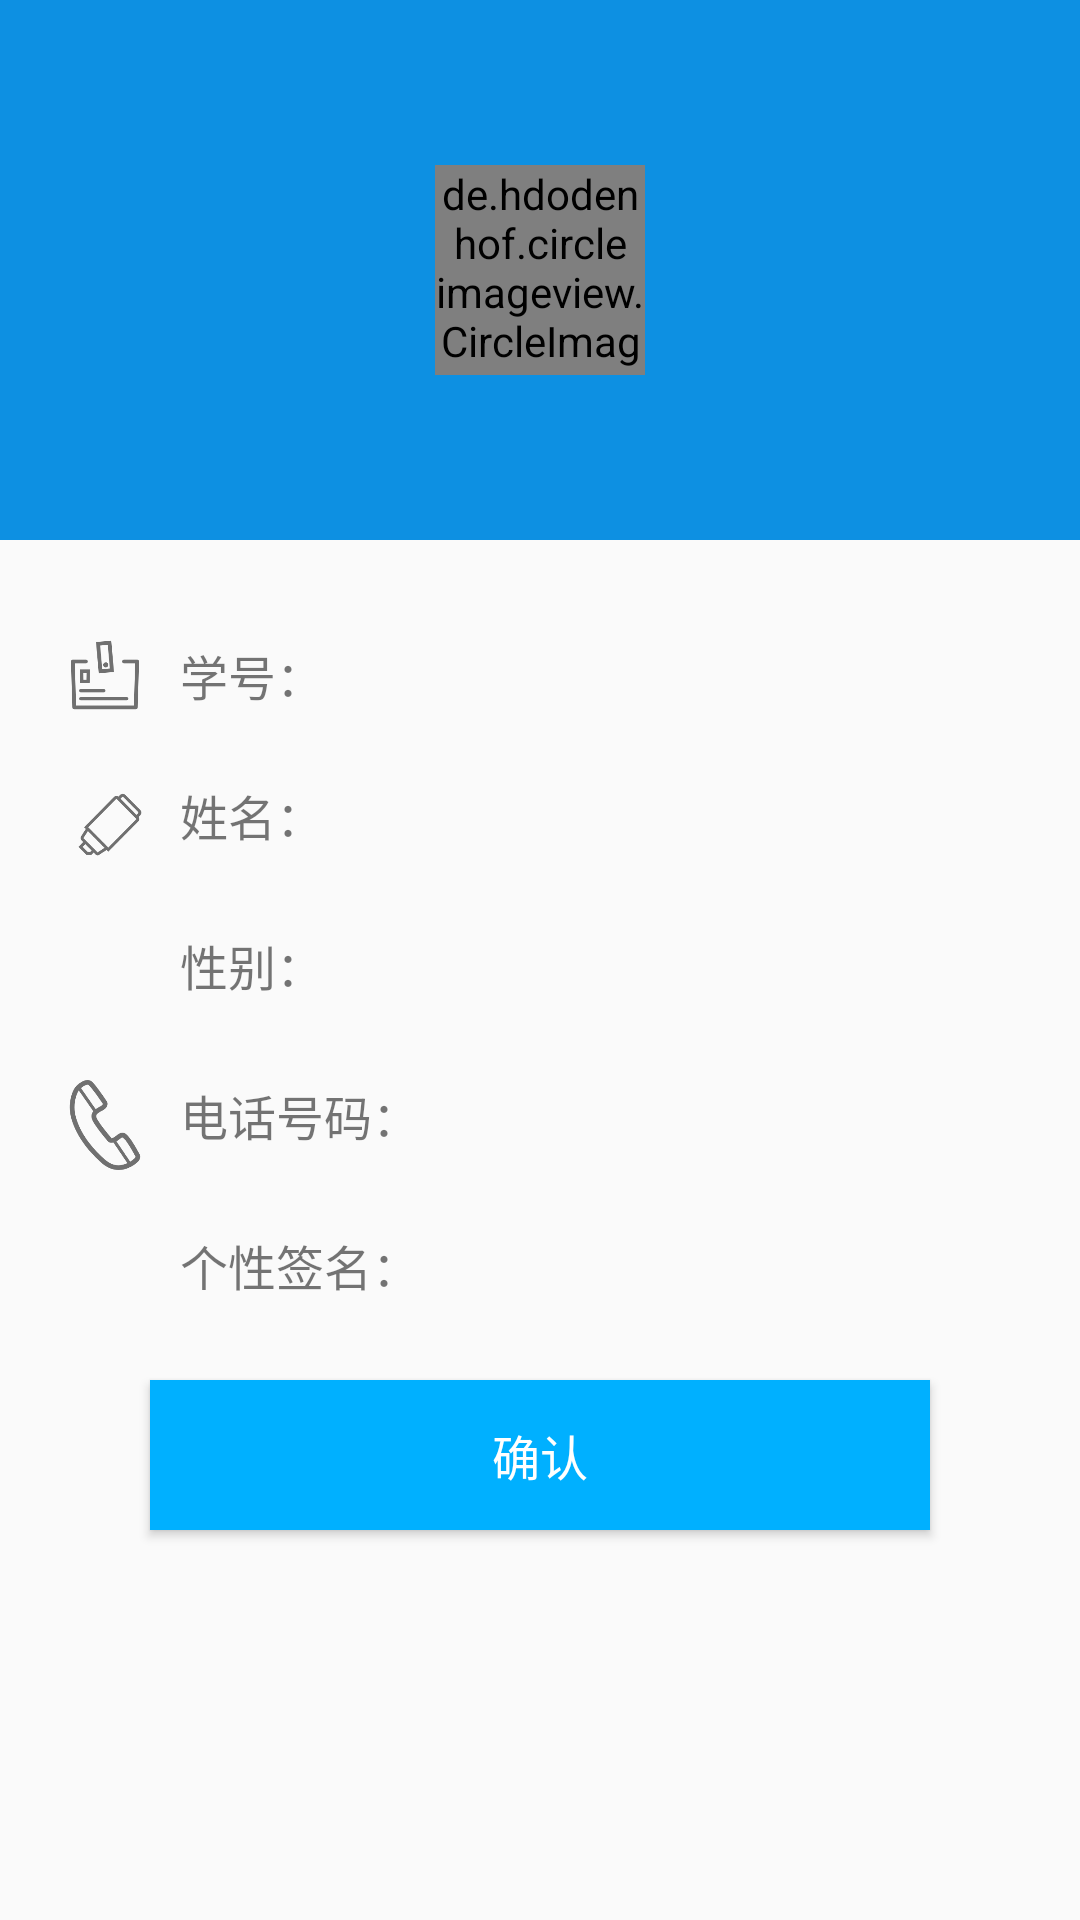

Icon bounding boxes for this 1080×1920 phone screenshot, format (x1, y1, x2, y2):
phone: (70, 1080, 140, 1170)
